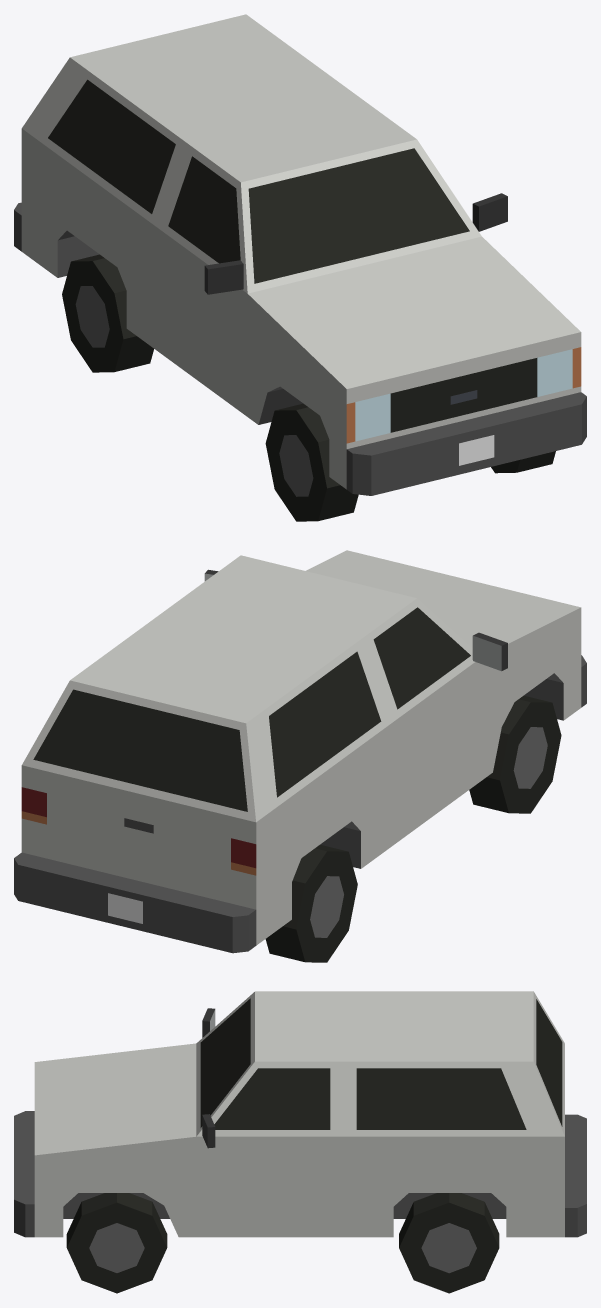
Rendered from Veh_SUV_02_White.obj.
3 renders of one model, top to bottom at view 1: azimuth 30°, elevation 25°; view 2: azimuth 150°, elevation 25°; view 3: azimuth 270°, elevation 25°, orthographic. The views are drawn at different scales.
Size of the model in its own units: 1.27 by 1.1 by 2.58.
